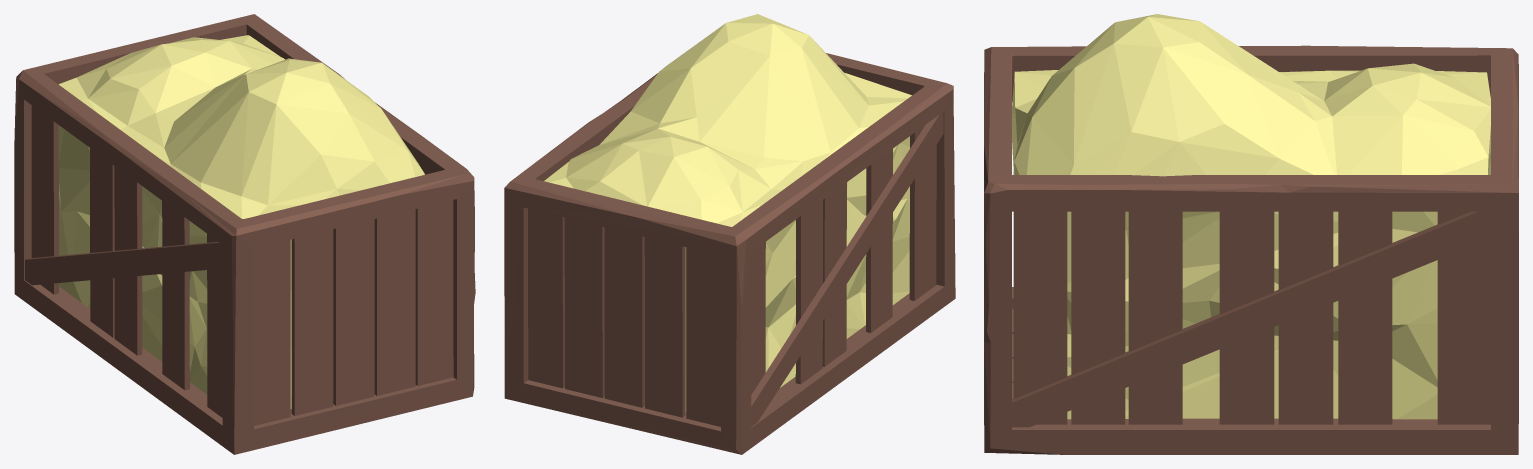
3 views of the same model, side by side, from view 1: azimuth 30°, elevation 25°; view 2: azimuth 150°, elevation 25°; view 3: azimuth 270°, elevation 25° (orthographic). The views are drawn at different scales.
Visible parts, largest first — view 1: Group18921_LOD0; view 2: Group18921_LOD0; view 3: Group18921_LOD0.
Part boxes in pixels (x1,y1,x2,y2): Group18921_LOD0: (14, 14, 475, 454); Group18921_LOD0: (504, 14, 955, 454); Group18921_LOD0: (984, 14, 1518, 454).
Size of what is drawn, in the model's own units: 95.99 by 115 by 152.
